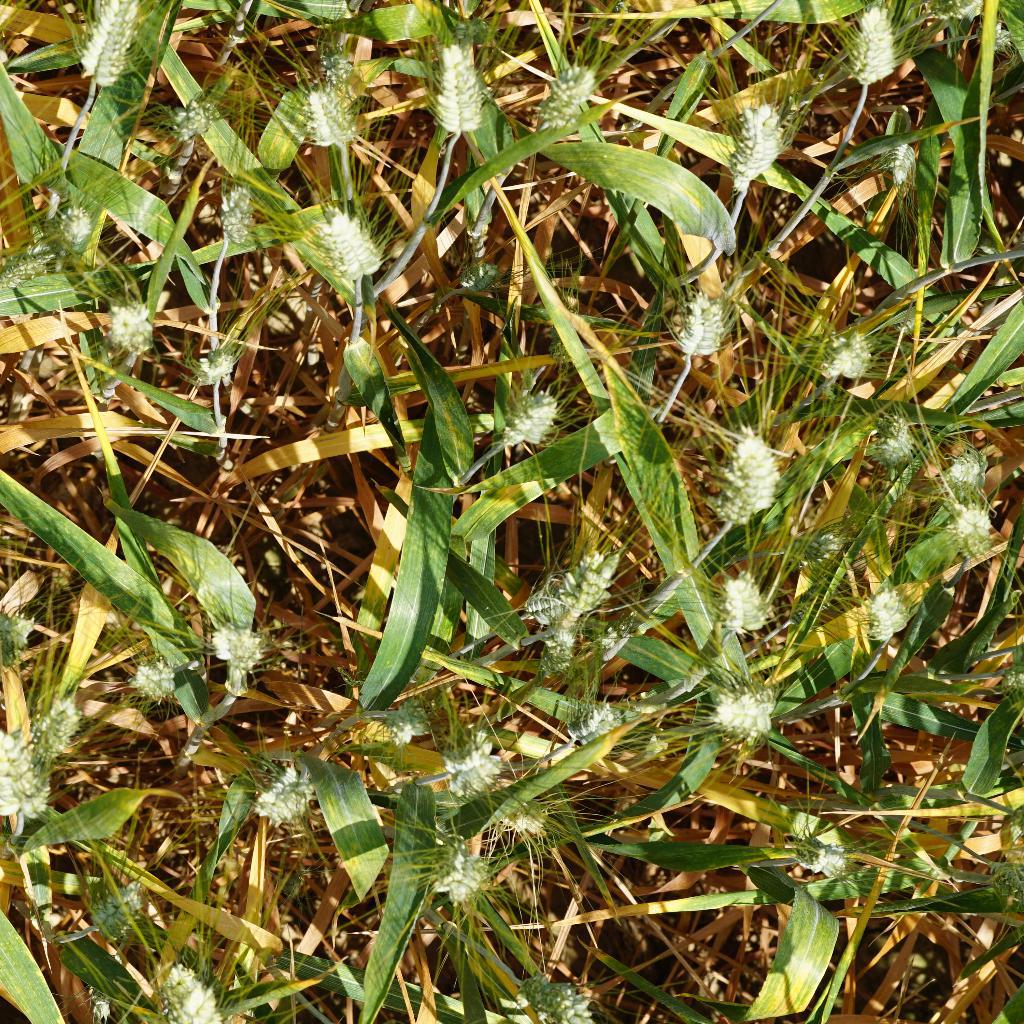0-0: (418, 26, 499, 144), (253, 751, 350, 834), (709, 88, 788, 189), (0, 722, 62, 840), (145, 948, 240, 1024), (310, 193, 387, 286), (798, 302, 884, 385), (426, 833, 503, 915), (658, 277, 729, 365), (492, 365, 567, 448), (280, 66, 354, 149), (77, 0, 149, 85), (435, 730, 519, 802), (86, 283, 164, 359), (518, 960, 610, 1024), (123, 638, 190, 725), (63, 867, 145, 938), (515, 587, 582, 671), (204, 606, 268, 692), (526, 56, 594, 135), (550, 541, 630, 605), (717, 557, 778, 639), (858, 582, 927, 653), (732, 429, 788, 516), (785, 826, 869, 884), (851, 0, 905, 90), (701, 684, 787, 739), (776, 519, 862, 573), (570, 608, 651, 665), (862, 402, 926, 474), (695, 458, 758, 530), (34, 698, 90, 774), (208, 175, 262, 253), (555, 688, 620, 751), (933, 433, 990, 503), (941, 495, 996, 565), (873, 134, 934, 195), (185, 331, 243, 395), (0, 232, 65, 287), (494, 790, 564, 841), (376, 692, 443, 744), (0, 602, 47, 671), (780, 582, 838, 631), (985, 845, 1023, 916), (918, 0, 969, 52), (161, 98, 213, 145), (47, 208, 98, 254), (313, 41, 357, 87), (972, 15, 1018, 58), (454, 259, 502, 298), (76, 977, 112, 1024), (880, 311, 931, 341), (274, 872, 310, 904)
